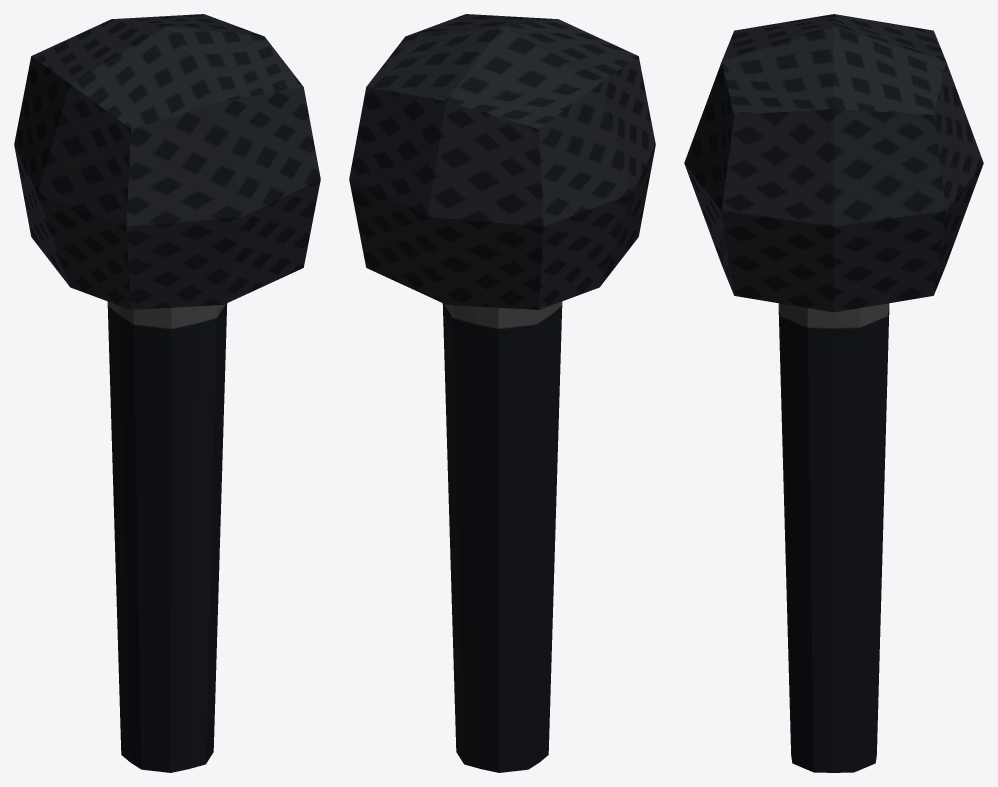
File: microphone.glb
3 views of the same model, side by side, from view 1: azimuth 30°, elevation 25°; view 2: azimuth 150°, elevation 25°; view 3: azimuth 270°, elevation 25° (orthographic).
Parts seen in each view (by area): view 1: Cube; view 2: Cube; view 3: Cube.
Boxes of the visible parts, x1,y1,x2,y2 form: Cube: (14,14,320,772); Cube: (349,14,655,772); Cube: (684,14,983,772).
Size of the model in its own units: 2 by 5.36 by 2.
Materials: 1 (1 with a texture image).
